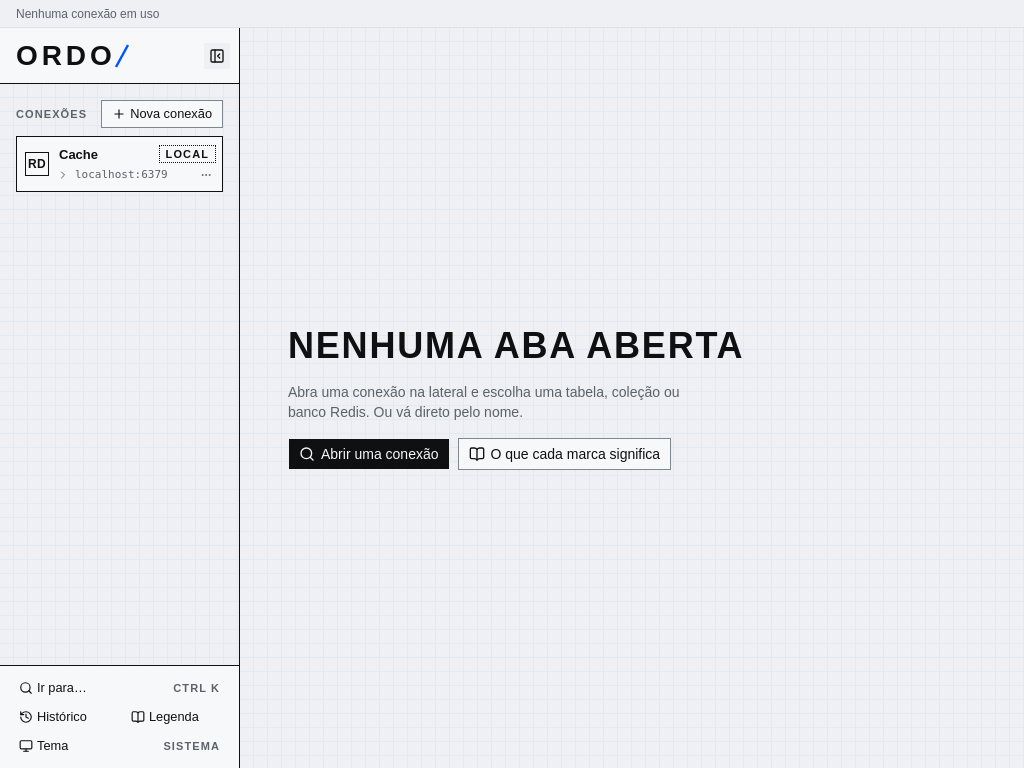
Test case: Redis lists databases and opens one in a tab, keys grouped by separator
Click the list item "RD Cache Local localhost:6379" at (120,164), box [17,137,222,191]
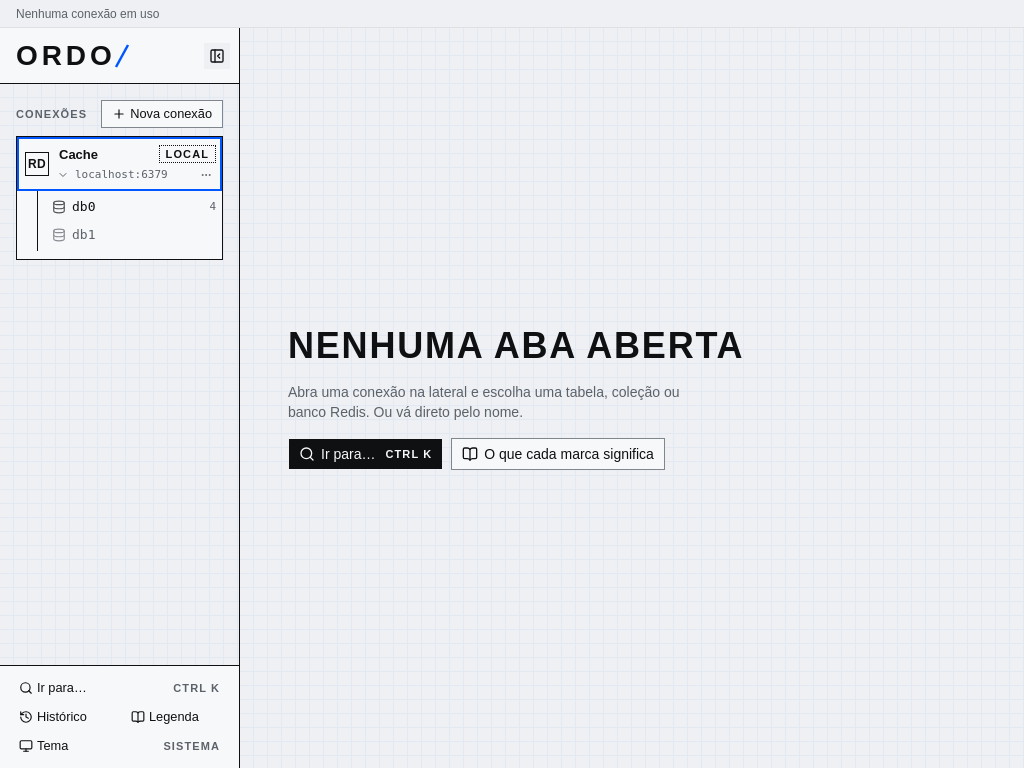
Check: the list item "db0 4" is shown
Check: the list item "db1" is shown, box [46,221,222,249]
Click the list item "db0 4" at (134,207), box [46,193,222,221]
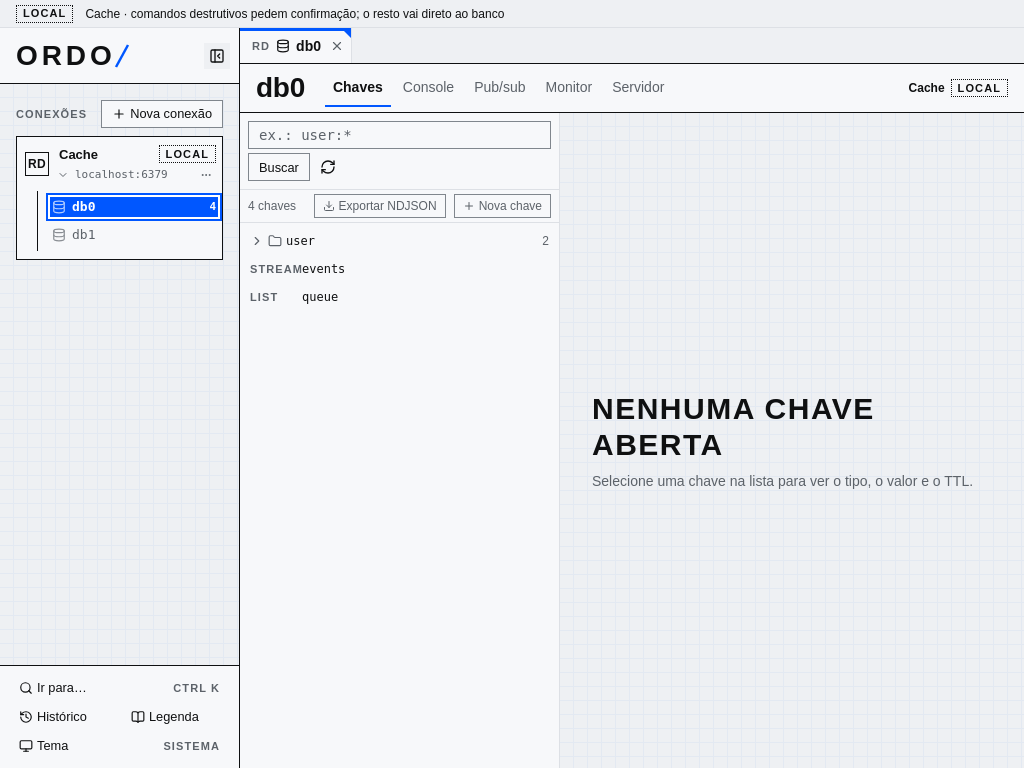
Check: the tab with aria-label "Cache · db0" is shown, box [270,30,325,62]
Check: the button "user 2" is shown
Click the button "user 2" at (257,241), box [244,227,555,255]
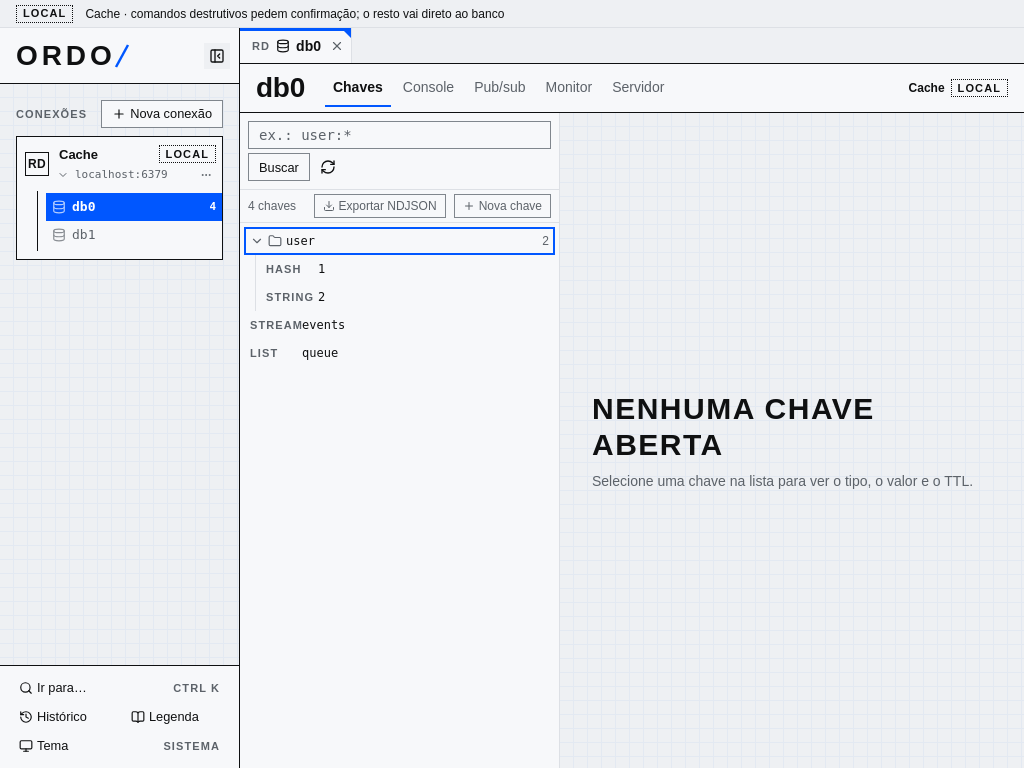
Check: the text "4 chaves" is shown, box [248,198,296,214]
Check: the button with aria-label "hash 1, chave user:1" is shown, box [244,255,555,283]
